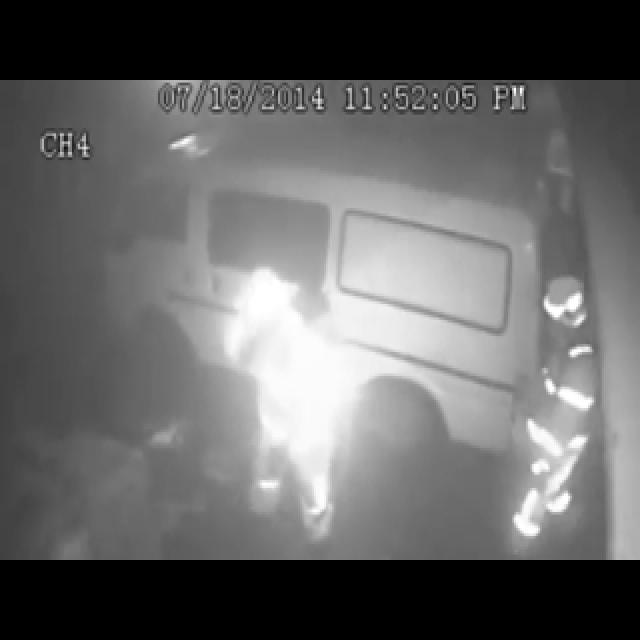arson: (2, 189, 491, 552)
